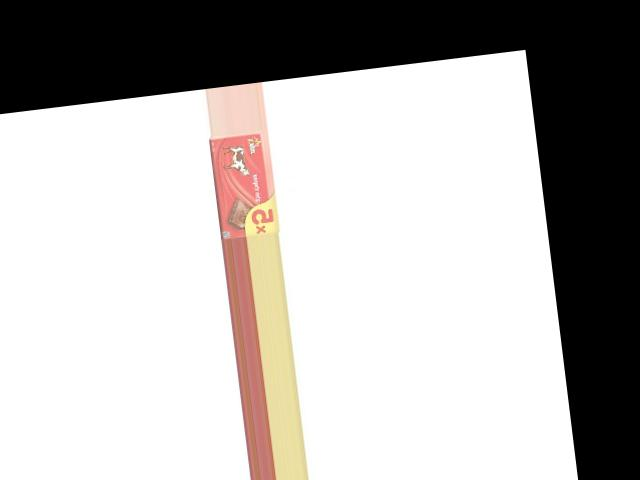chocolate: (208, 128, 282, 239)
